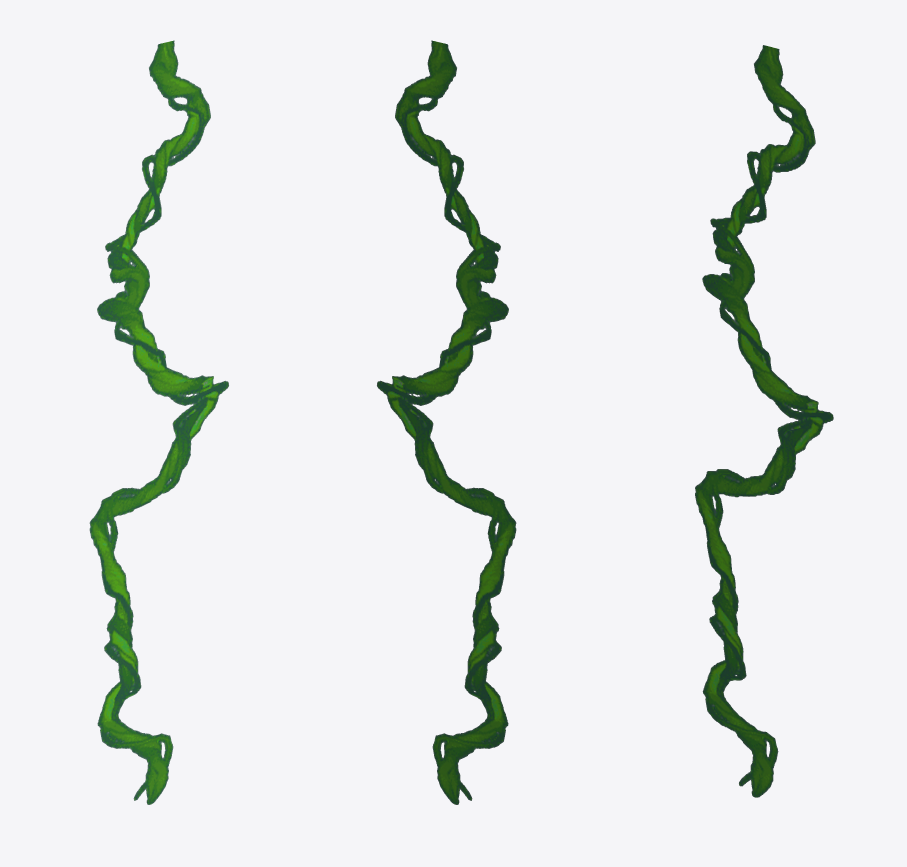
The model's file is ivy_4_dream.glb.
3 views of the same model, side by side, from view 1: azimuth 30°, elevation 25°; view 2: azimuth 150°, elevation 25°; view 3: azimuth 330°, elevation 25° (orthographic).
Visible parts, largest first — view 1: Ivy_4; view 2: Ivy_4; view 3: Ivy_4.
Part boxes in pixels (x1,y1,x2,y2): Ivy_4: [89, 40, 228, 804]; Ivy_4: [377, 40, 516, 804]; Ivy_4: [695, 45, 833, 797].
Bounding box in the file's own units: 0.8808 × 2.41 × 0.
Materials: 1 (1 with a texture image).
